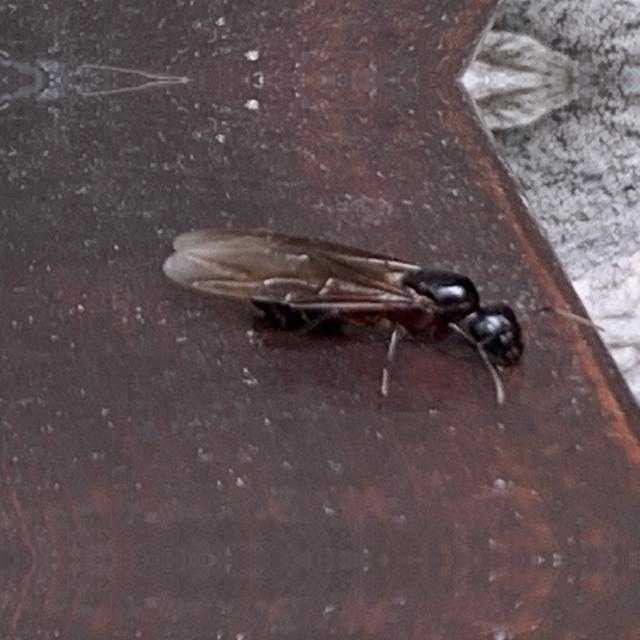Camponotus: (143, 194, 604, 410)
